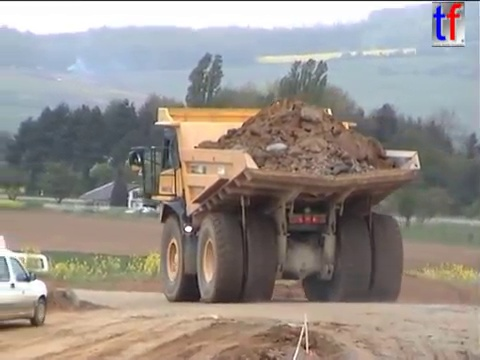truck: (125, 102, 424, 310)
